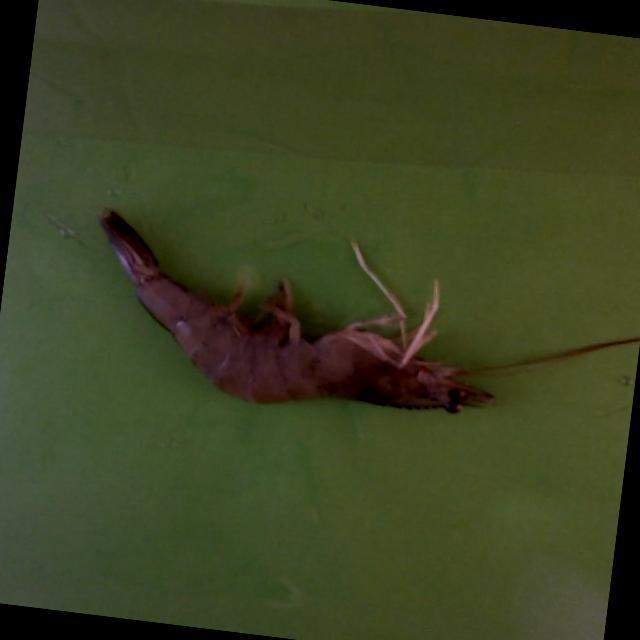shrimp: (98, 210, 493, 411)
